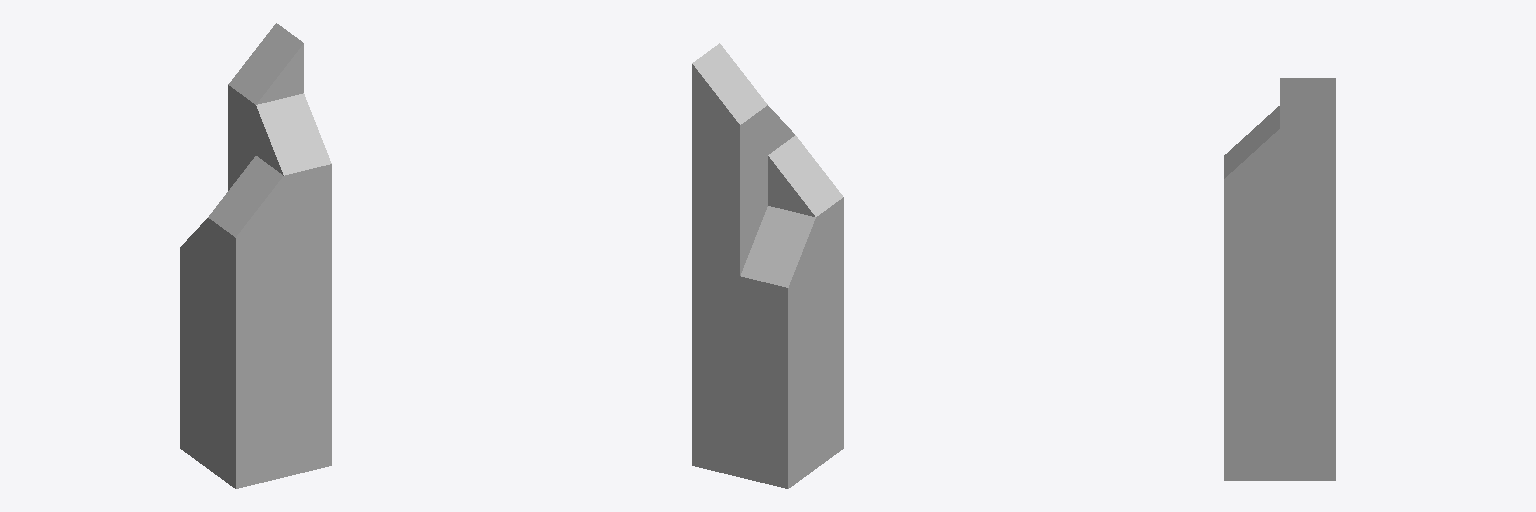
The model's file is column-paint-damaged.obj.
The picture shows the model from 3 angles: view 1: azimuth 30°, elevation 25°; view 2: azimuth 150°, elevation 25°; view 3: azimuth 270°, elevation 25°; orthographic projection.
Visible parts, largest first — view 1: column-paint-damaged; view 2: column-paint-damaged; view 3: column-paint-damaged.
Boxes of the visible parts, x1,y1,x2,y2 form: column-paint-damaged: [180, 23, 331, 488]; column-paint-damaged: [692, 43, 843, 488]; column-paint-damaged: [1224, 78, 1335, 480].
Size of the model in its own units: 0.2 by 0.8 by 0.2.